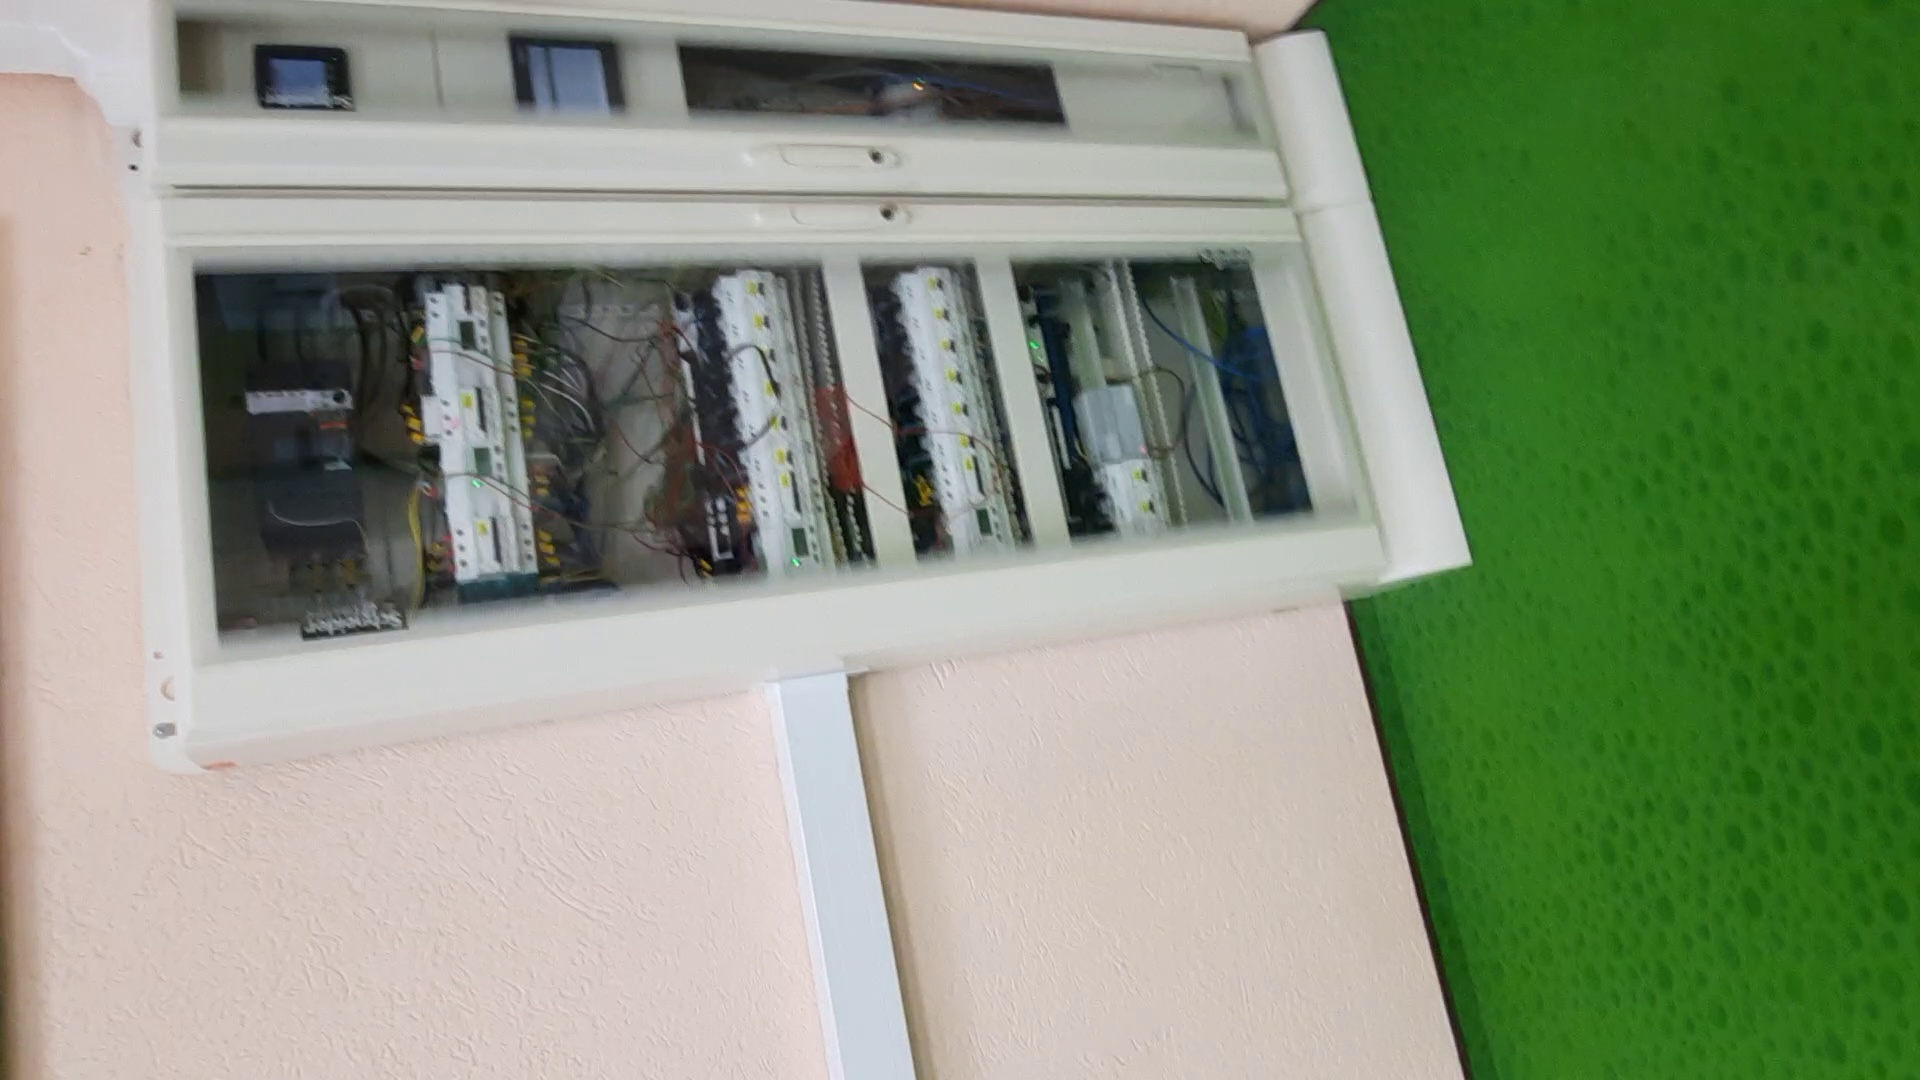stand1: (125, 1, 1490, 789)
